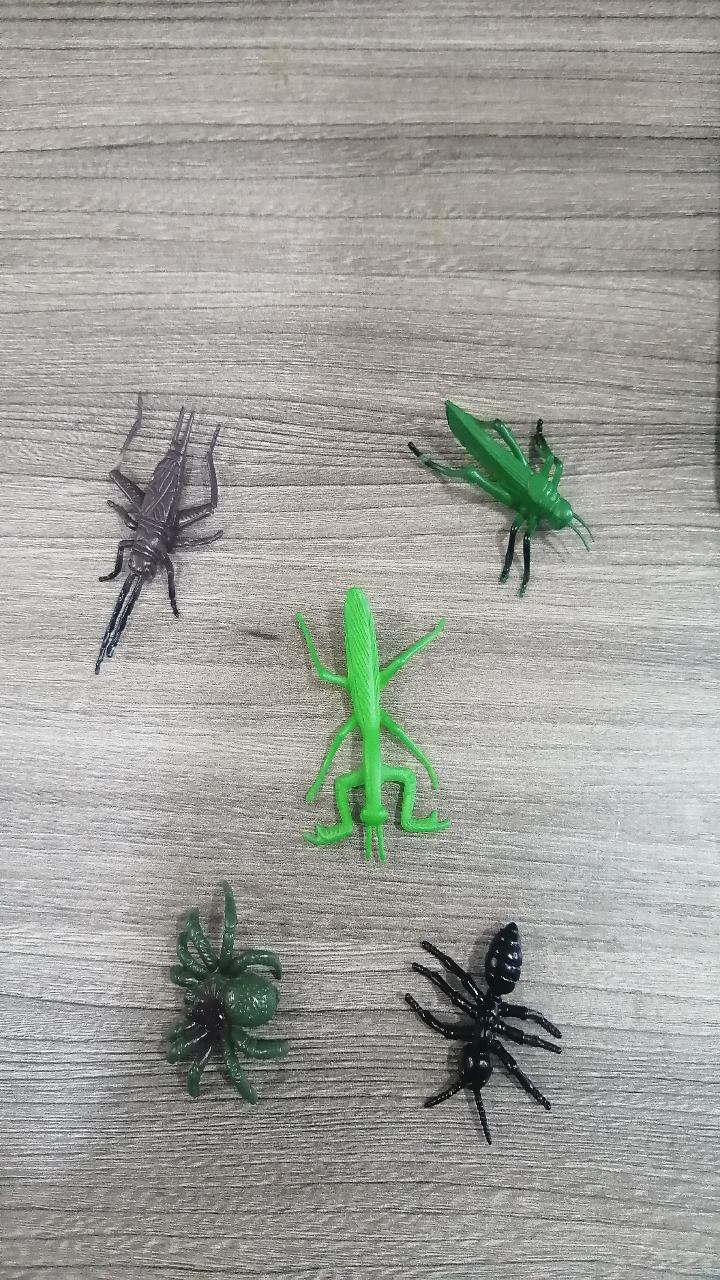intruso: (40, 345, 243, 679), (108, 852, 321, 1148), (394, 362, 615, 635), (269, 565, 451, 879), (384, 877, 580, 1149)
